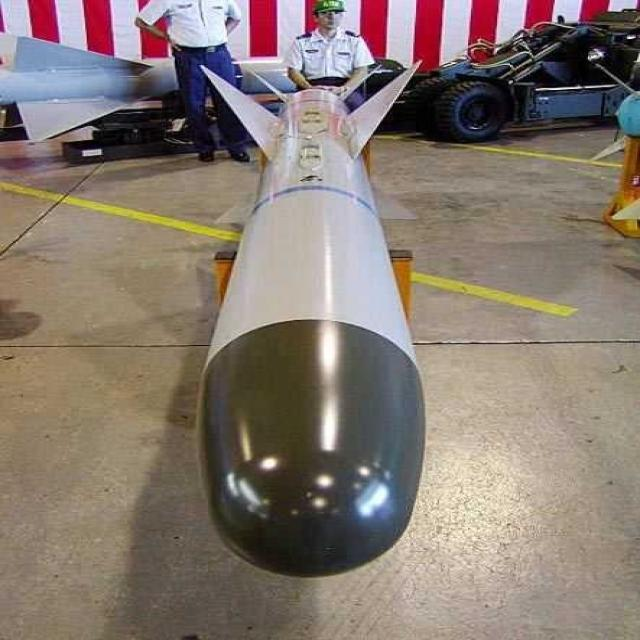missile: (195, 56, 425, 573)
